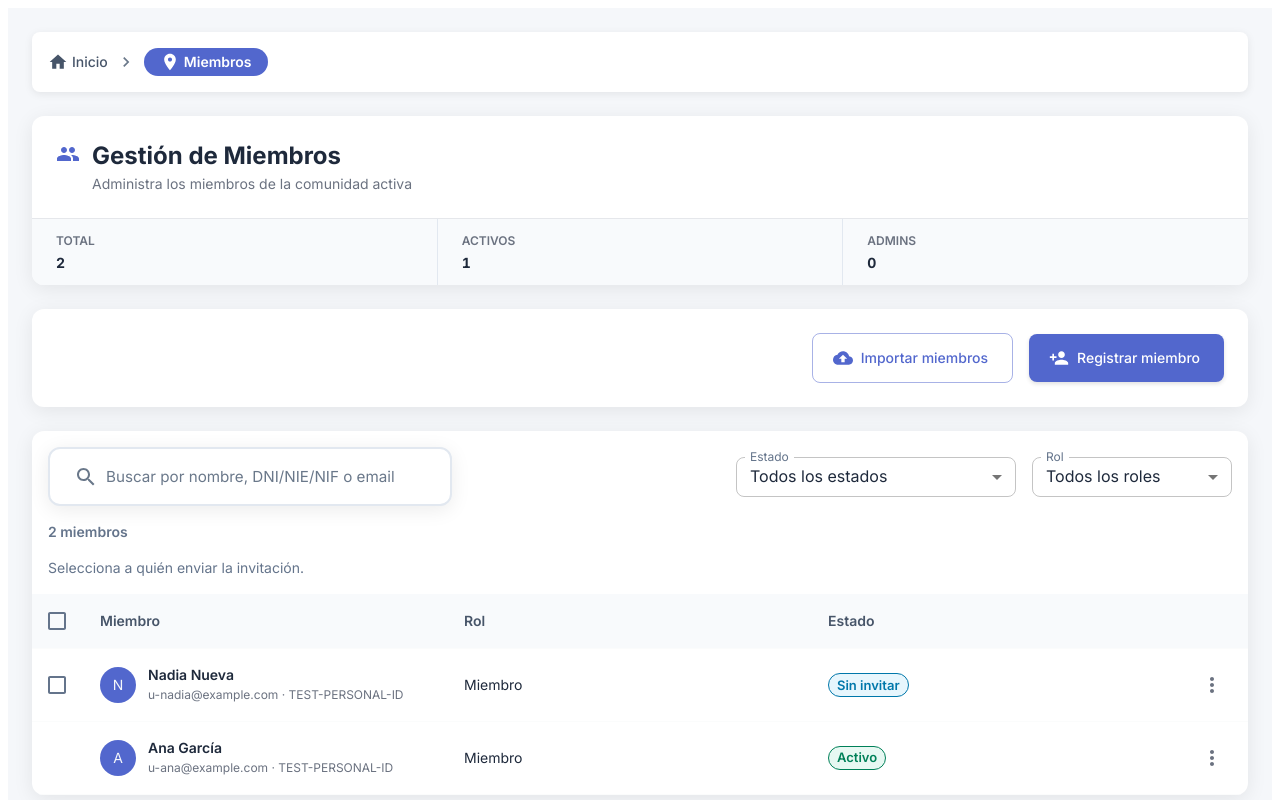
Test: invitation refusals › UI-MBR-014 words MEMBERSHIP_WITHOUT_CONTACT_EMAIL, and leaves the roster as it was
The image size is (1280, 800).
Expected: the text "Ana García" is shown, [148,739,222,756]
Click the button named "Más acciones para Nadia Nueva" at (1212, 685), box [1195,668,1229,702]
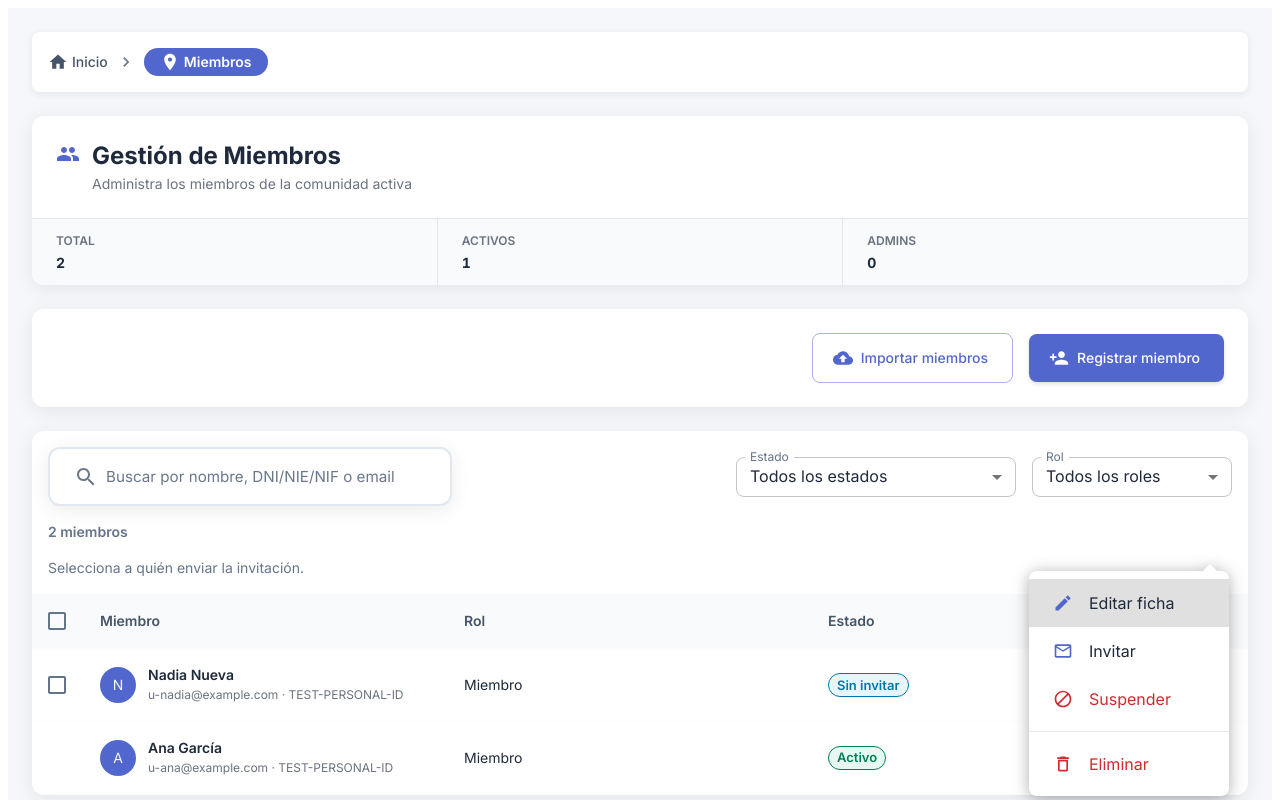
Click the menu item "Invitar" at (1094, 651), box [1053,641,1136,661]
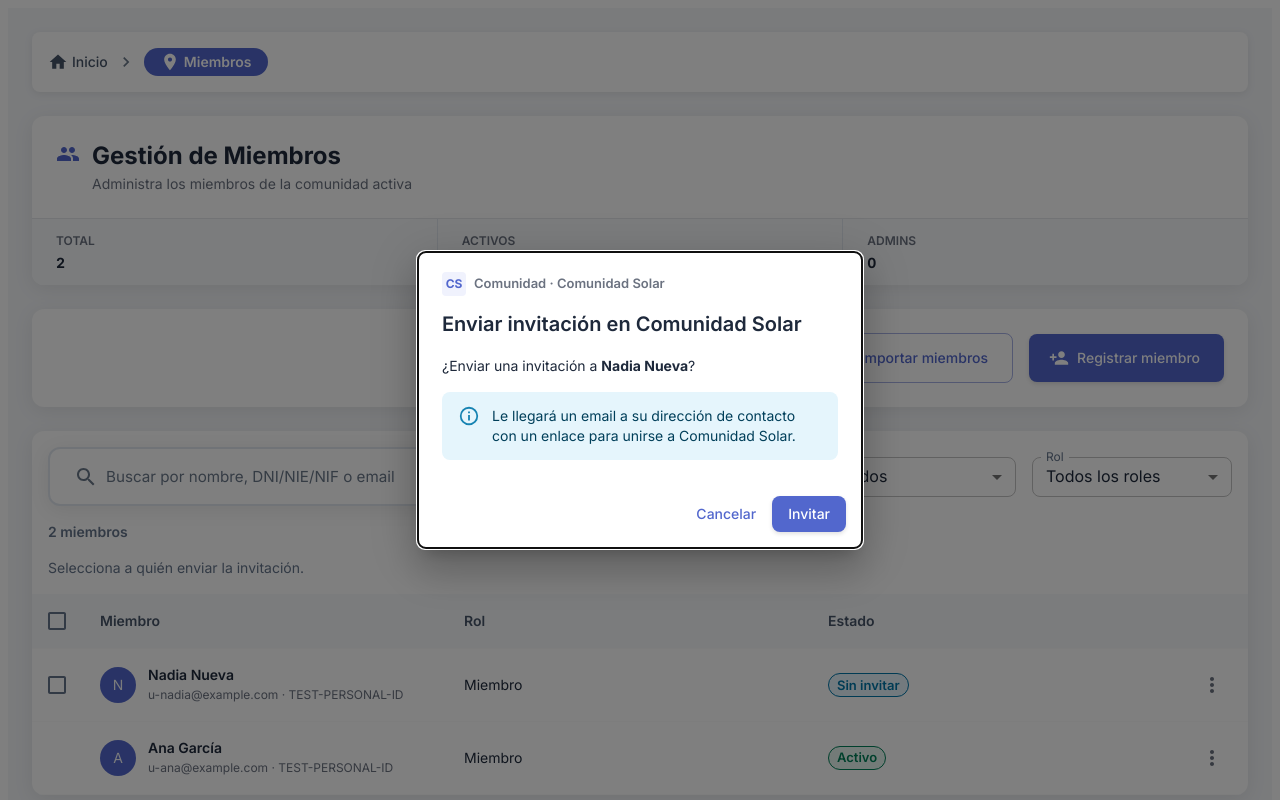
Click the button "Invitar" at (809, 514), box [772,496,846,532]
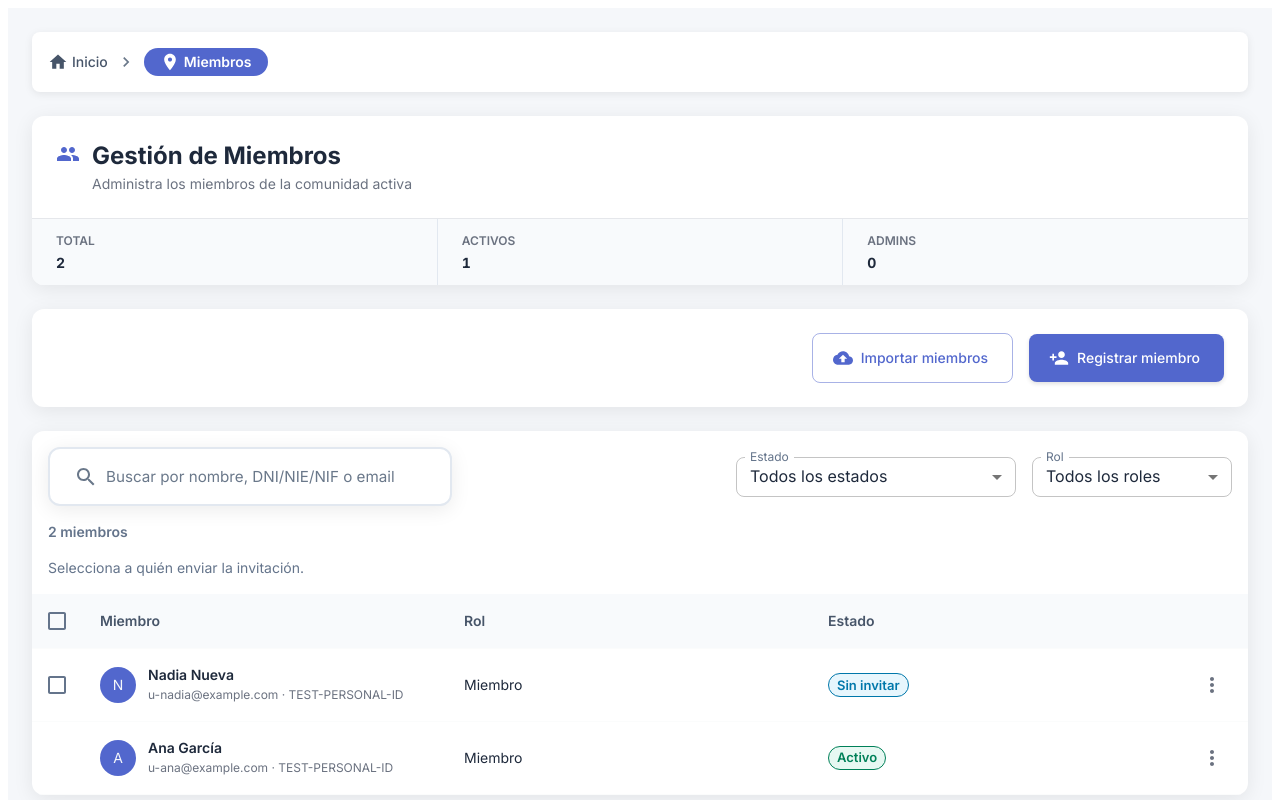
Expected: the dialog is gone
